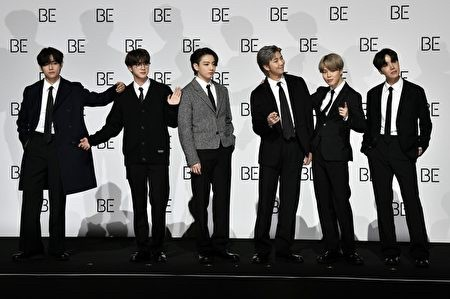people: (117, 47, 174, 239), (370, 49, 422, 245), (183, 47, 235, 237), (251, 46, 299, 237), (313, 52, 359, 242), (26, 47, 72, 236)
